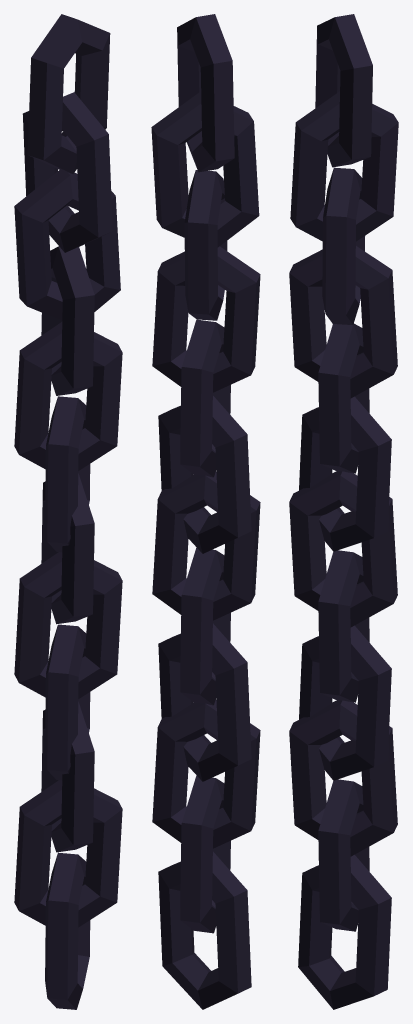
The model's file is MDungeon_Chain_Straight_01.FBX.
3 views of the same model, side by side, from view 1: azimuth 90°, elevation 25°; view 2: azimuth 150°, elevation 25°; view 3: azimuth 330°, elevation 25° (orthographic).
Parts seen in each view (by area): view 1: MDungeon_Chain_Straight_01_LOD0; view 2: MDungeon_Chain_Straight_01_LOD0; view 3: MDungeon_Chain_Straight_01_LOD0.
Boxes of the visible parts, box(x1,y1,x2,y2) form: MDungeon_Chain_Straight_01_LOD0: box(14, 14, 122, 1009); MDungeon_Chain_Straight_01_LOD0: box(151, 14, 260, 1009); MDungeon_Chain_Straight_01_LOD0: box(289, 14, 398, 1009).
Size of what is drawn, in the model's own units: 0.1873 by 1.87 by 0.1853.
